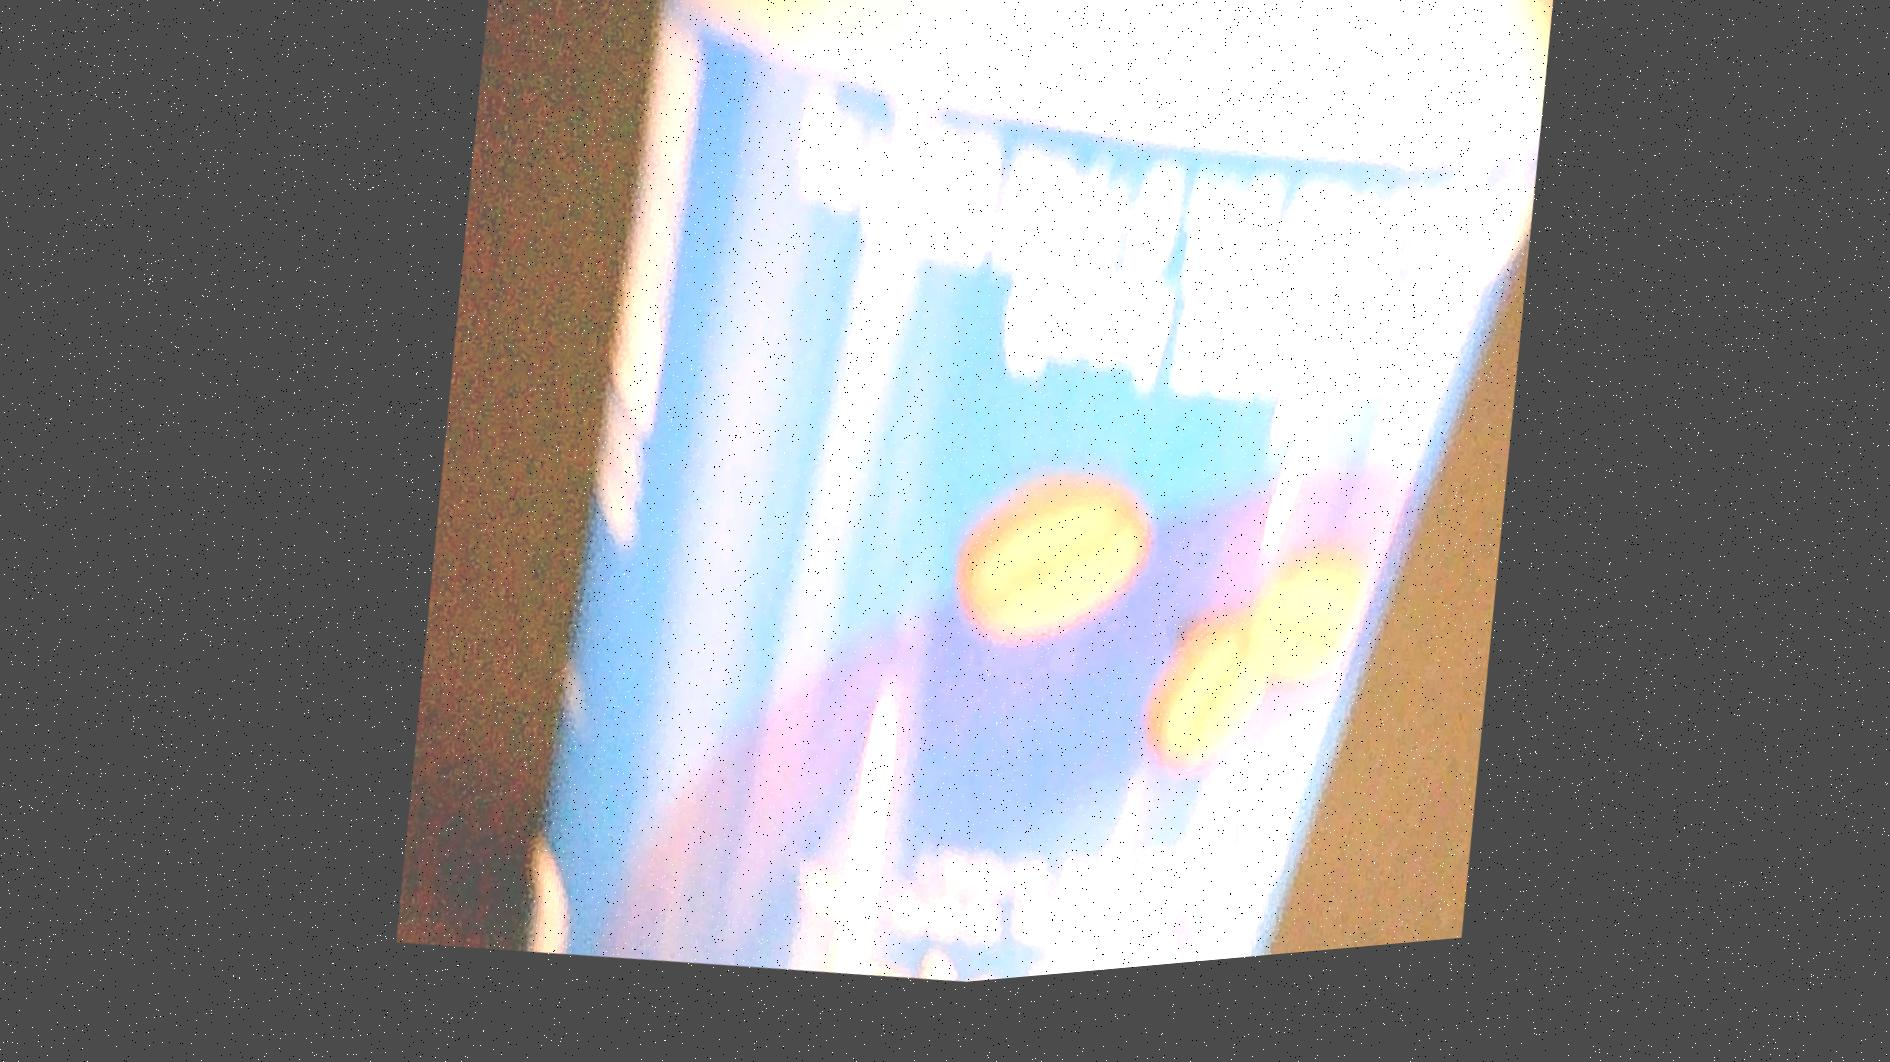letsbe: (447, 0, 1602, 1031)
